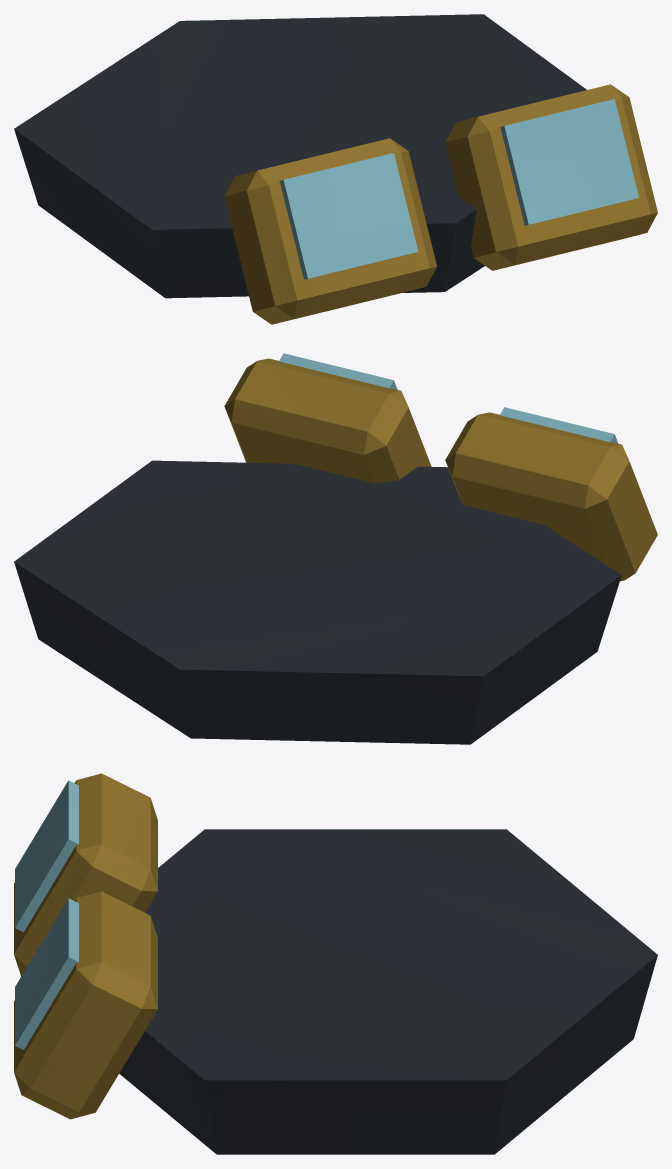
File: gear.head.welding_goggles.glb
3 renders of one model, top to bottom at view 1: azimuth 30°, elevation 25°; view 2: azimuth 150°, elevation 25°; view 3: azimuth 270°, elevation 25°, orthographic. The views are drawn at different scales.
Parts seen in each view (by area): view 1: head@welding_goggles.base; view 2: head@welding_goggles.base; view 3: head@welding_goggles.base.
Part boxes in pixels (box(x1,y1,x2,y2)): head@welding_goggles.base: box(14, 14, 657, 324); head@welding_goggles.base: box(14, 353, 657, 744); head@welding_goggles.base: box(14, 773, 657, 1154).
Size of the model in its own units: 0.2713 by 0.0864 by 0.2943.
